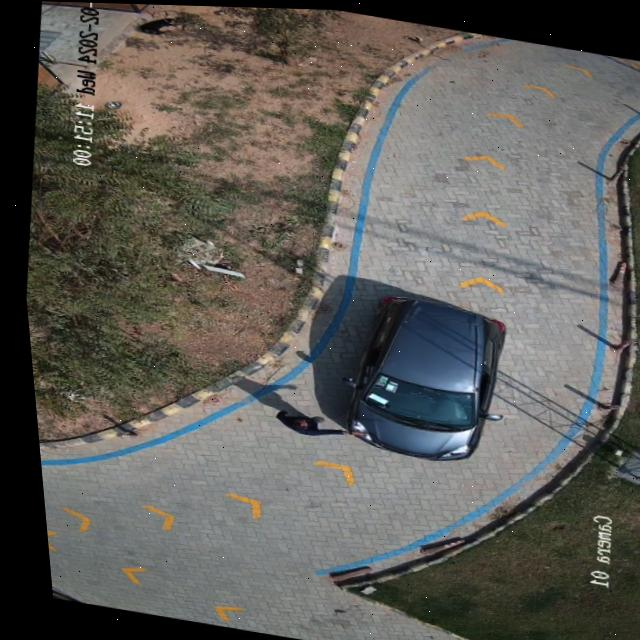car: (336, 290, 503, 460)
